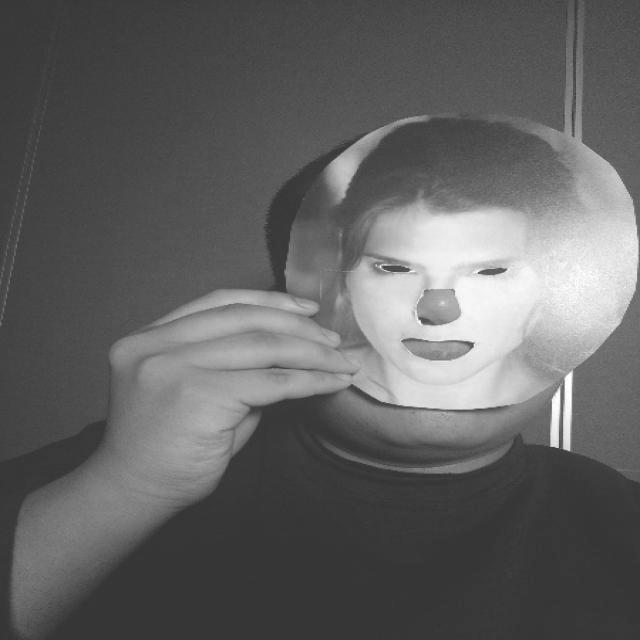fake: (284, 110, 640, 412)
